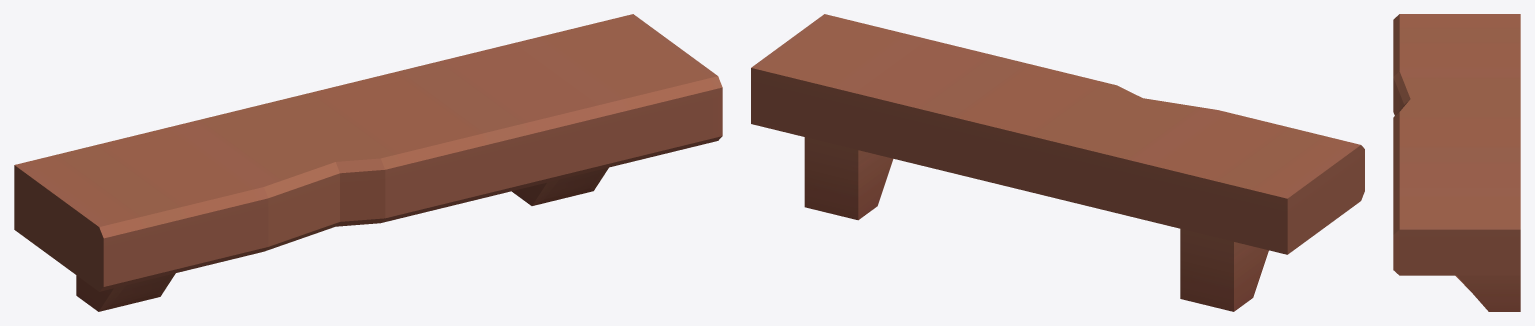
File: shelf_large.glb
3 views of the same model, side by side, from view 1: azimuth 30°, elevation 25°; view 2: azimuth 150°, elevation 25°; view 3: azimuth 270°, elevation 25° (orthographic). The views are drawn at different scales.
Parts seen in each view (by area): view 1: shelf_large; view 2: shelf_large; view 3: shelf_large.
Part boxes in pixels (x1=…): shelf_large: x1=14, y1=14, x2=722, y2=311; shelf_large: x1=751, y1=14, x2=1364, y2=311; shelf_large: x1=1393, y1=14, x2=1520, y2=311.
Size of the model in its own units: 2 by 0.45 by 0.5.
Materials: 1 (1 with a texture image).
